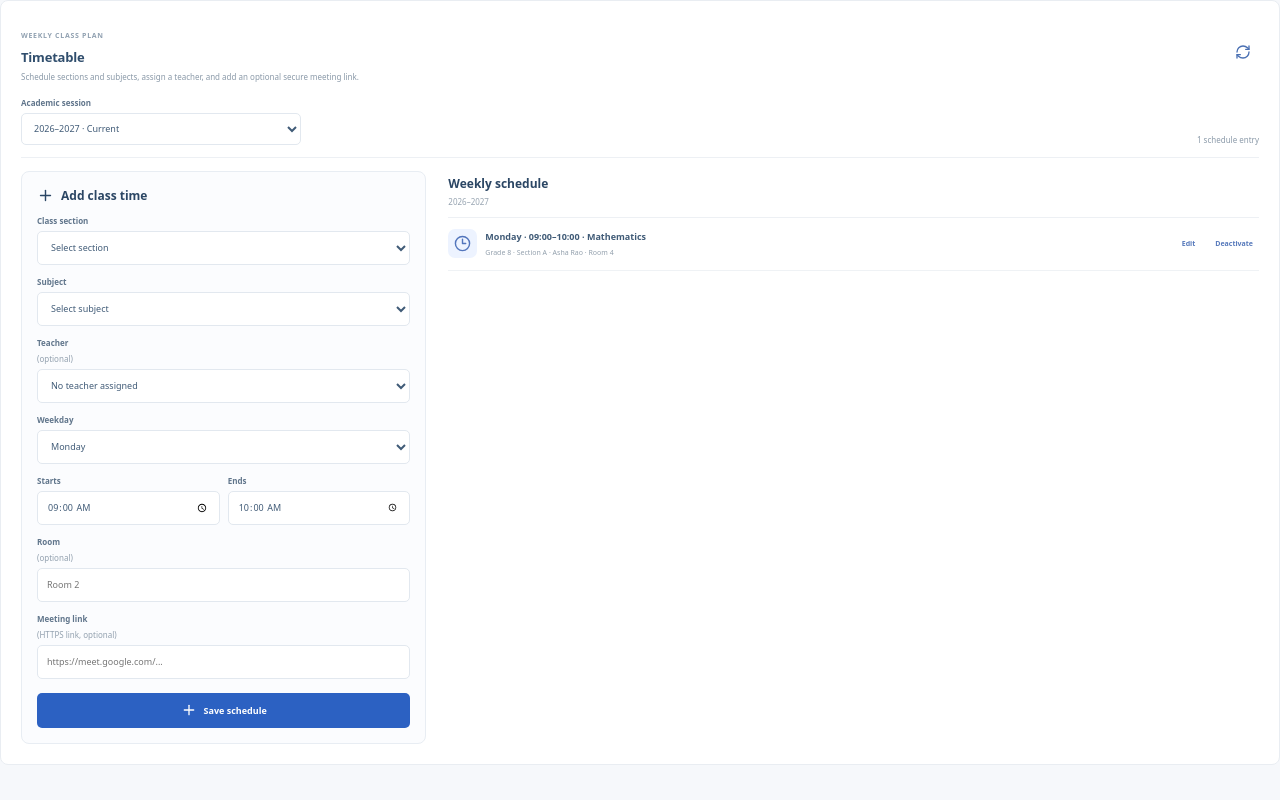
Test: timetable entry editing › keeps the edit form open and shows API conflict errors
Click the button with aria-label "Edit Monday Mathematics timetable entry".
click(1189, 244)  # box [1176, 238, 1201, 249]
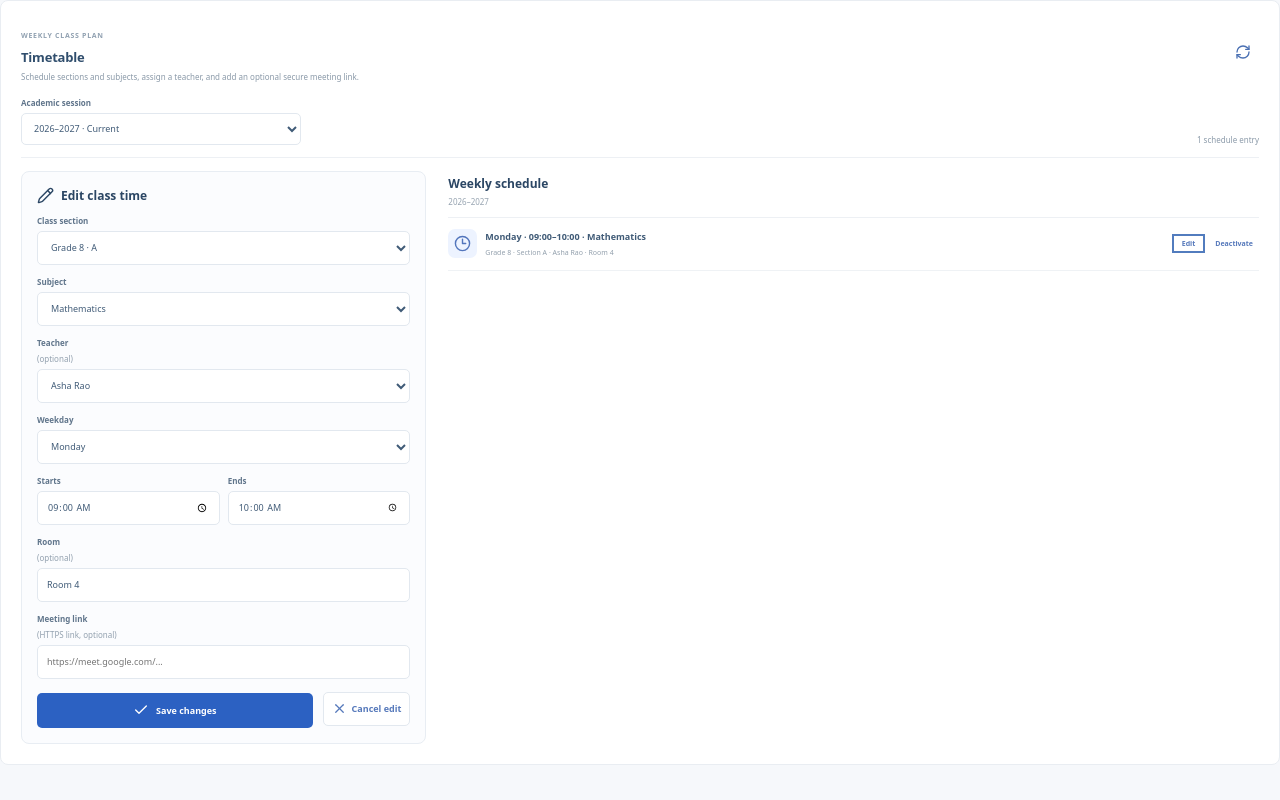
Click the button "Save changes".
click(175, 710)  # box [37, 693, 312, 728]
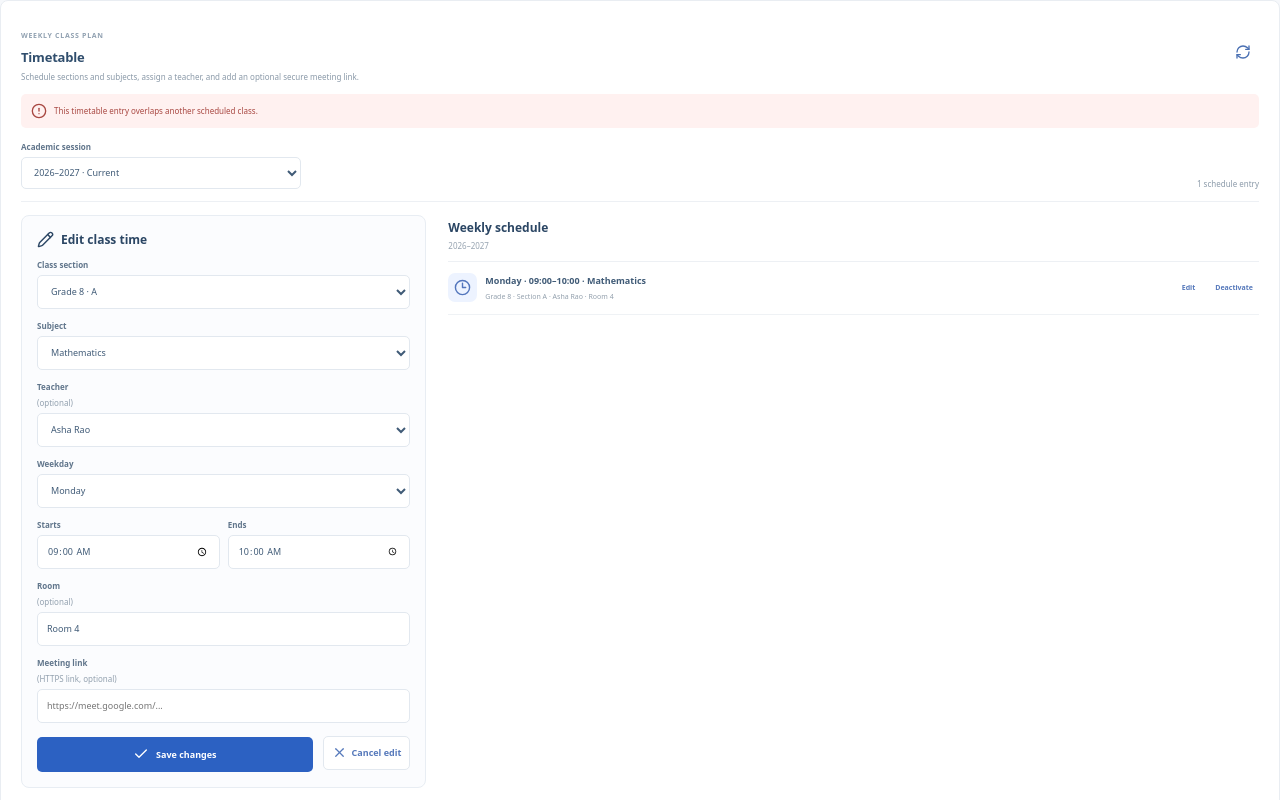
Expected: the heading "Edit class time" is shown, [37, 231, 147, 248]
Expected: the message reads "This timetable entry overlaps another scheduled class.", [54, 105, 258, 116]
